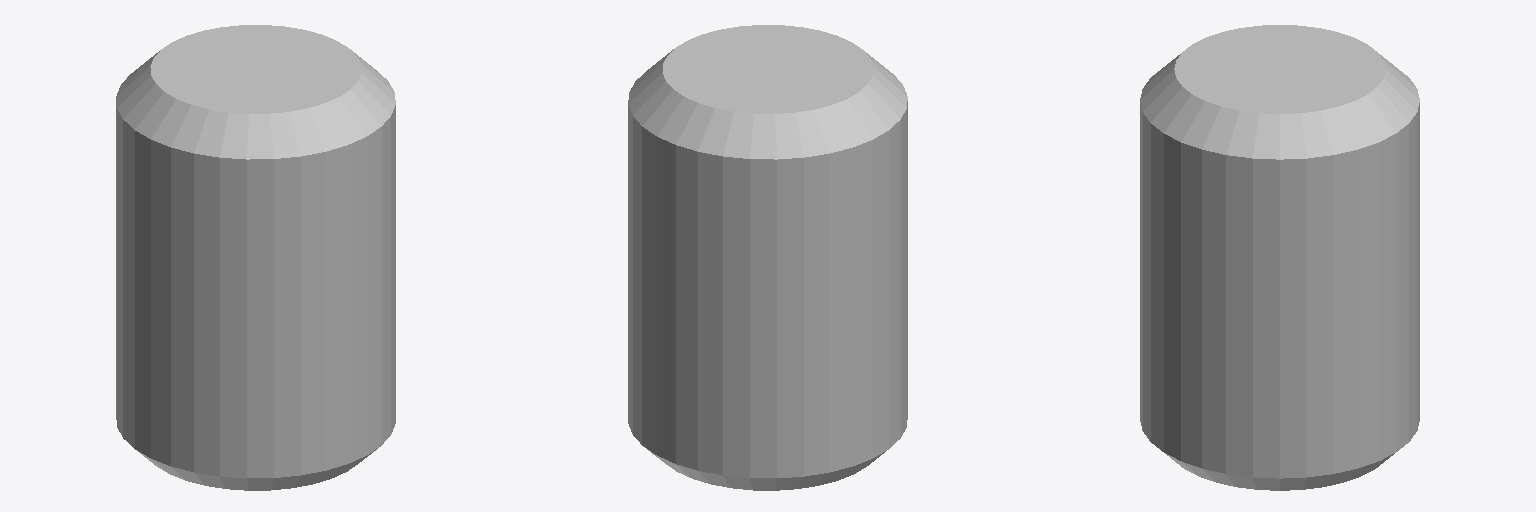
File: player.obj
The picture shows the model from 3 angles: view 1: azimuth 30°, elevation 25°; view 2: azimuth 150°, elevation 25°; view 3: azimuth 270°, elevation 25°; orthographic projection.
Visible parts, largest first — view 1: Cylinder; view 2: Cylinder; view 3: Cylinder.
Part boxes in pixels (x1,y1,x2,y2): Cylinder: (116,25,395,490); Cylinder: (628,25,907,490); Cylinder: (1140,25,1419,490).
Size of the model in its own units: 2 by 2.94 by 2.